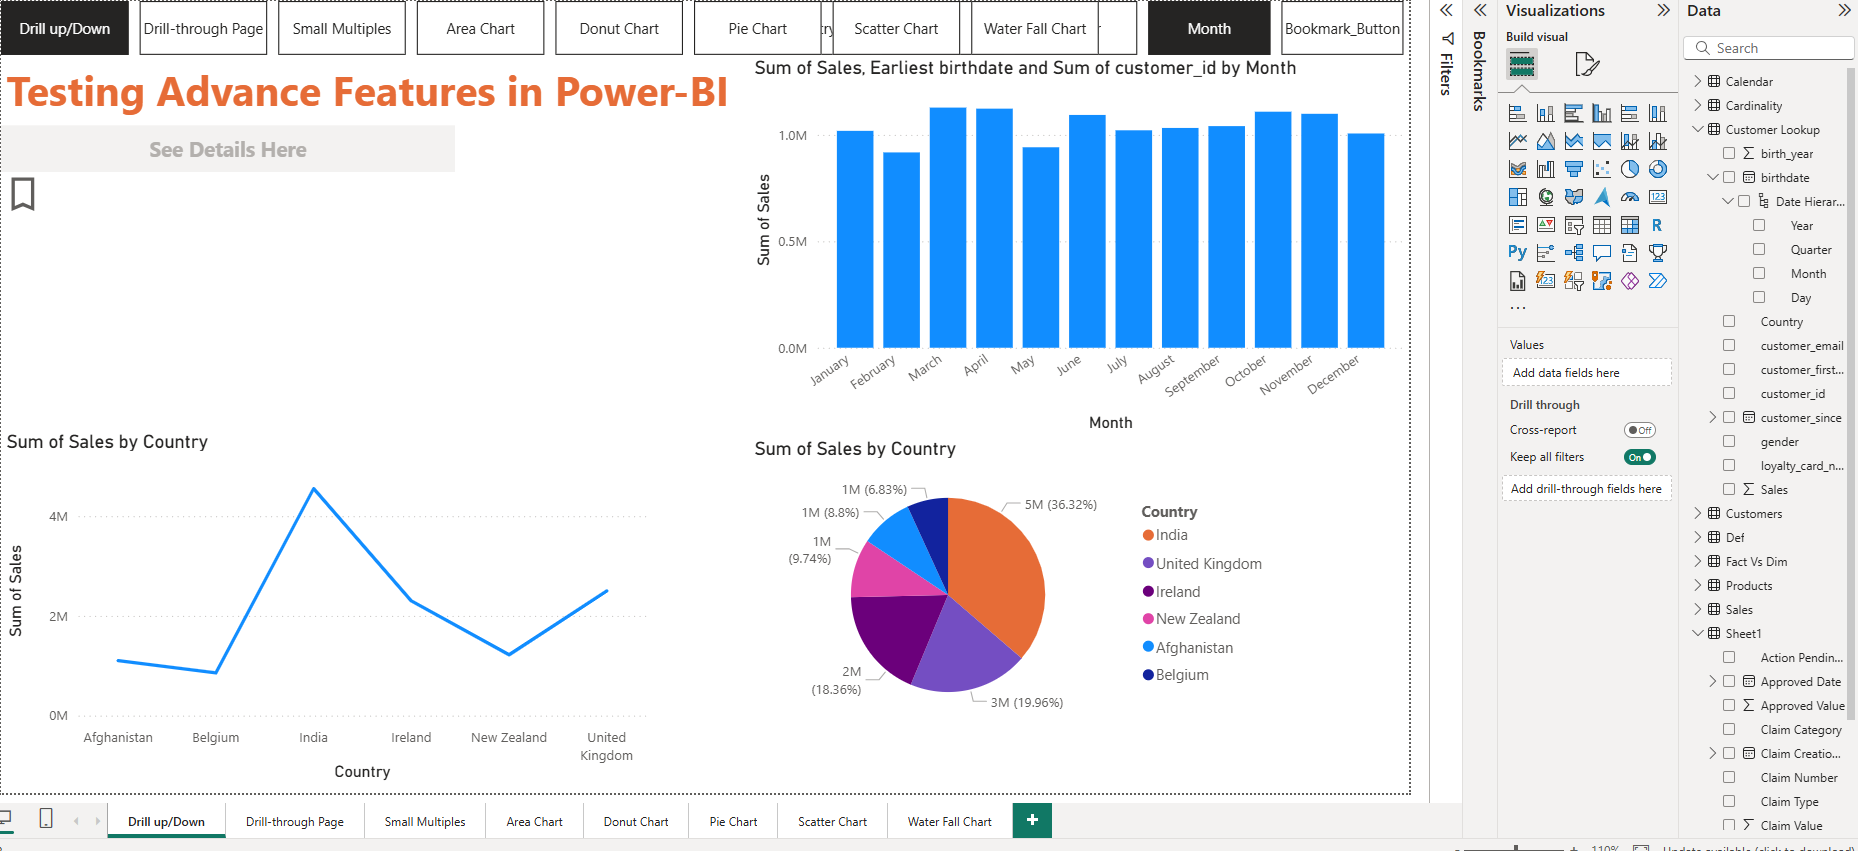

This screenshot's page, from the dashboard's own definition file:
{"tool":"powerbi","page":{"name":"Drill up/Down","canvas":[1280,720],"ordinal":0},"visuals":[{"type":"columnChart","fields":{"Category":["Customer Lookup.Country","Customer Lookup.birthdate.Variation.Date Hierarchy.Year","Customer Lookup.birthdate.Variation.Date Hierarchy.Quarter","Customer Lookup.birthdate.Variation.Date Hierarchy.Month"],"Y":["Sum(Customer Lookup.Sales)"]},"box":[680,49.6,600,346.2],"z":0},{"type":"bookmarkNavigator","box":[680,0,600,49.6],"z":1000},{"type":"lineChart","fields":{"Category":["Customer Lookup.Country"],"Y":["Sum(Customer Lookup.Sales)"]},"box":[0,390,597.3,323.6],"z":2000},{"type":"pageNavigator","box":[0,0,1000,50],"z":3000},{"type":"actionButton","box":[0,112.7,412.7,42.7],"z":3001},{"type":"pieChart","fields":{"Y":["Sum(Customer Lookup.Sales)"],"Category":["Customer Lookup.Country"]},"box":[680,396.4,480.9,268.2],"z":3002},{"type":"actionButton","box":[0,155.5,100,40],"z":3003},{"type":"textbox","box":[0,50,680,62.7],"z":3004}]}

Visuals, with their boxes on the page's 1280x720 design canvas (x1, y1, x2, y2). These are canvas units, not pixel positions in the 1858x851 screenshot, which may show the page scaled, cropped or inside an application window:
columnChart - Customer Lookup.Country x Customer Lookup.birthdate.Variation.Date Hierarchy.Year: rect(680, 50, 1280, 396)
bookmarkNavigator: rect(680, 0, 1280, 50)
lineChart - Customer Lookup.Country x Sum(Customer Lookup.Sales): rect(0, 390, 597, 714)
pageNavigator: rect(0, 0, 1000, 50)
actionButton: rect(0, 113, 413, 155)
pieChart - Sum(Customer Lookup.Sales) x Customer Lookup.Country: rect(680, 396, 1161, 665)
actionButton: rect(0, 156, 100, 196)
textbox: rect(0, 50, 680, 113)
